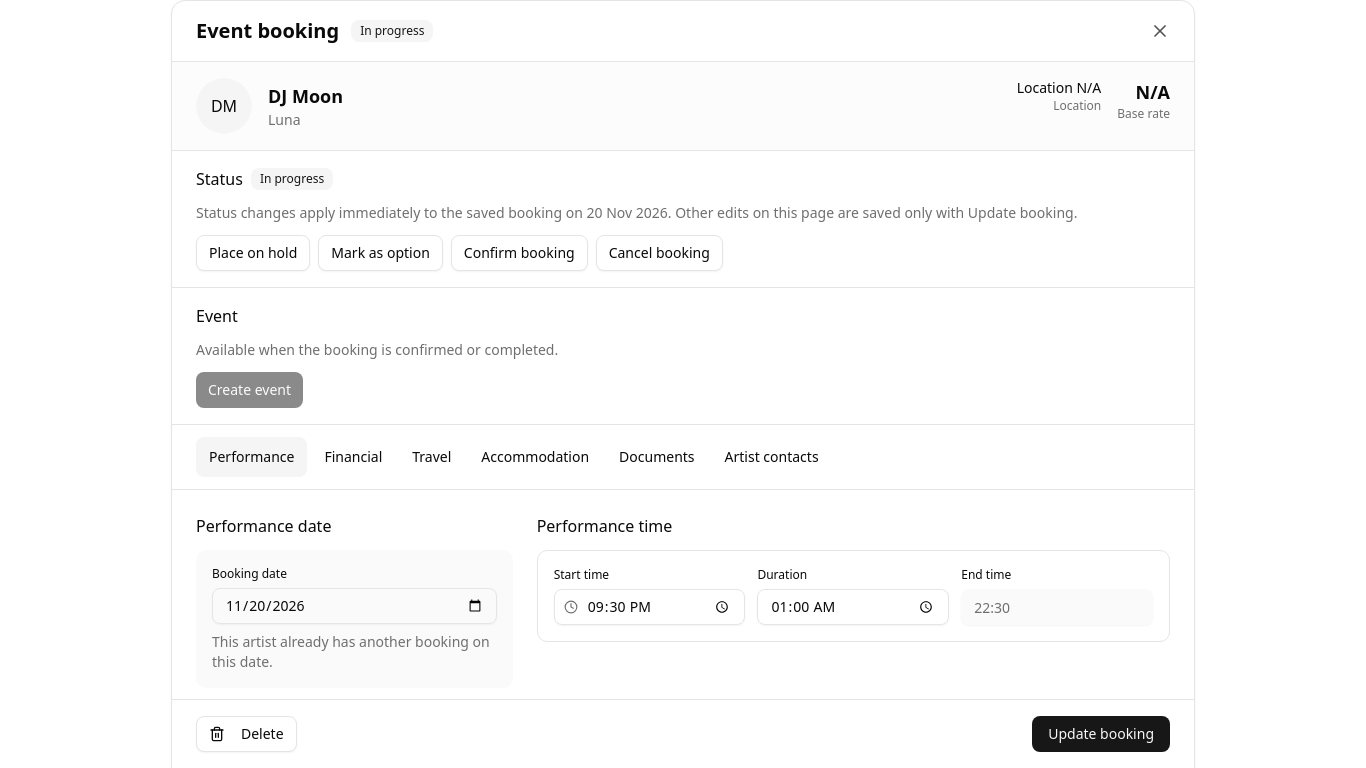
Test: warns in the editor about other same-day bookings, excluding itself and cancelled ones, and follows date edits
The image size is (1366, 768).
Check: the text "This artist already has another booking on this date." is shown, box [212,632,490,671]
Type "2026-11-22" into the date field labelled "Booking date" at (354, 606), box [212,588,497,624]
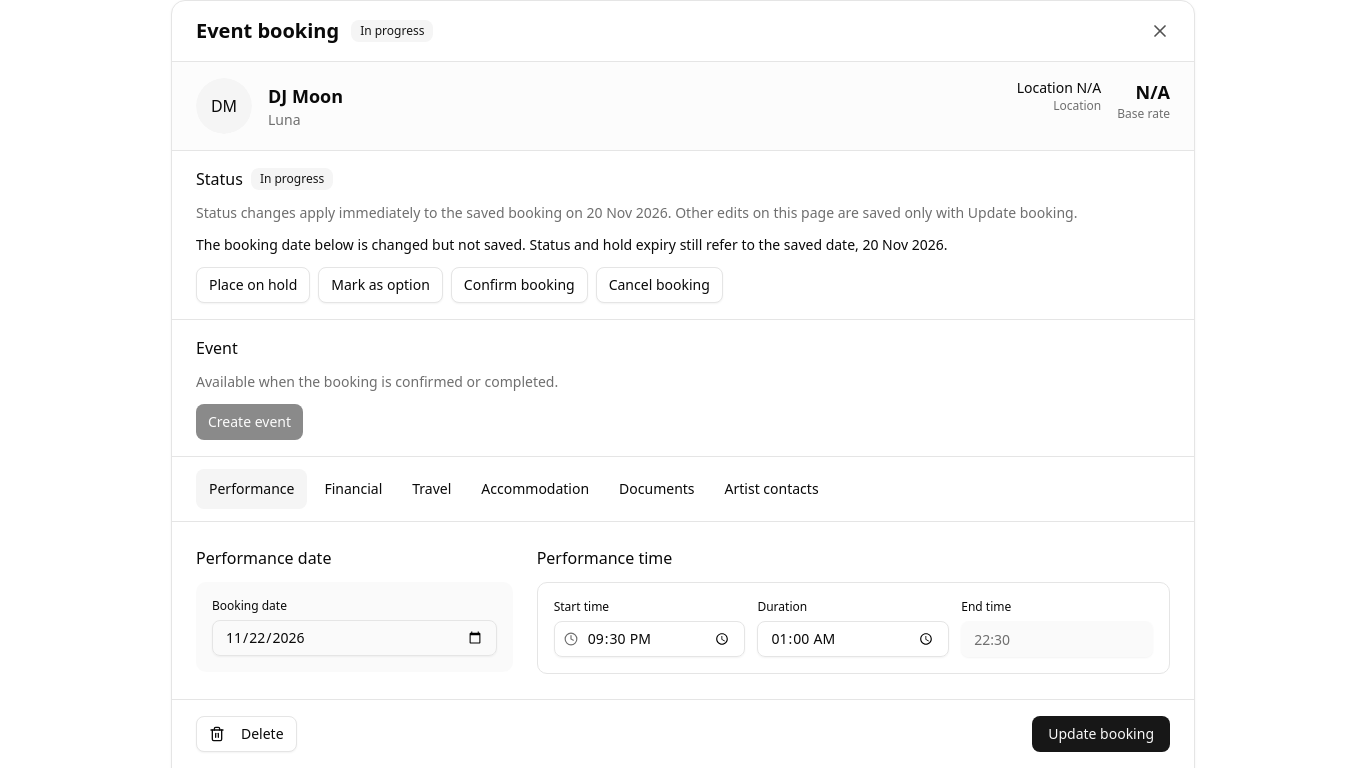
Check: the text "already has" is gone
Type "2026-11-21" into the date field labelled "Booking date" at (354, 638), box [212,620,497,656]
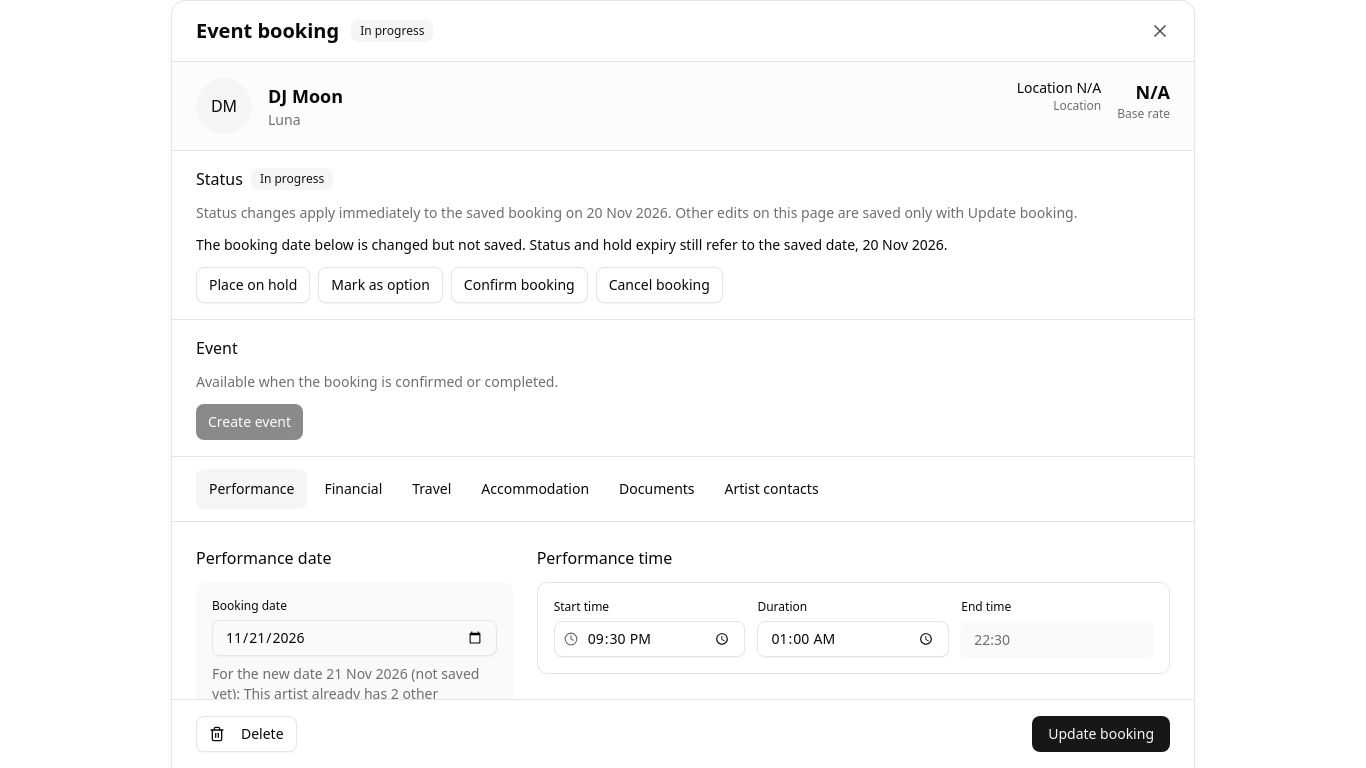
Check: the text "This artist already has 2 other bookings on this date." is shown, box [212,684,438,723]
Clear the date field labelled "Booking date" at (354, 638), box [212,620,497,656]
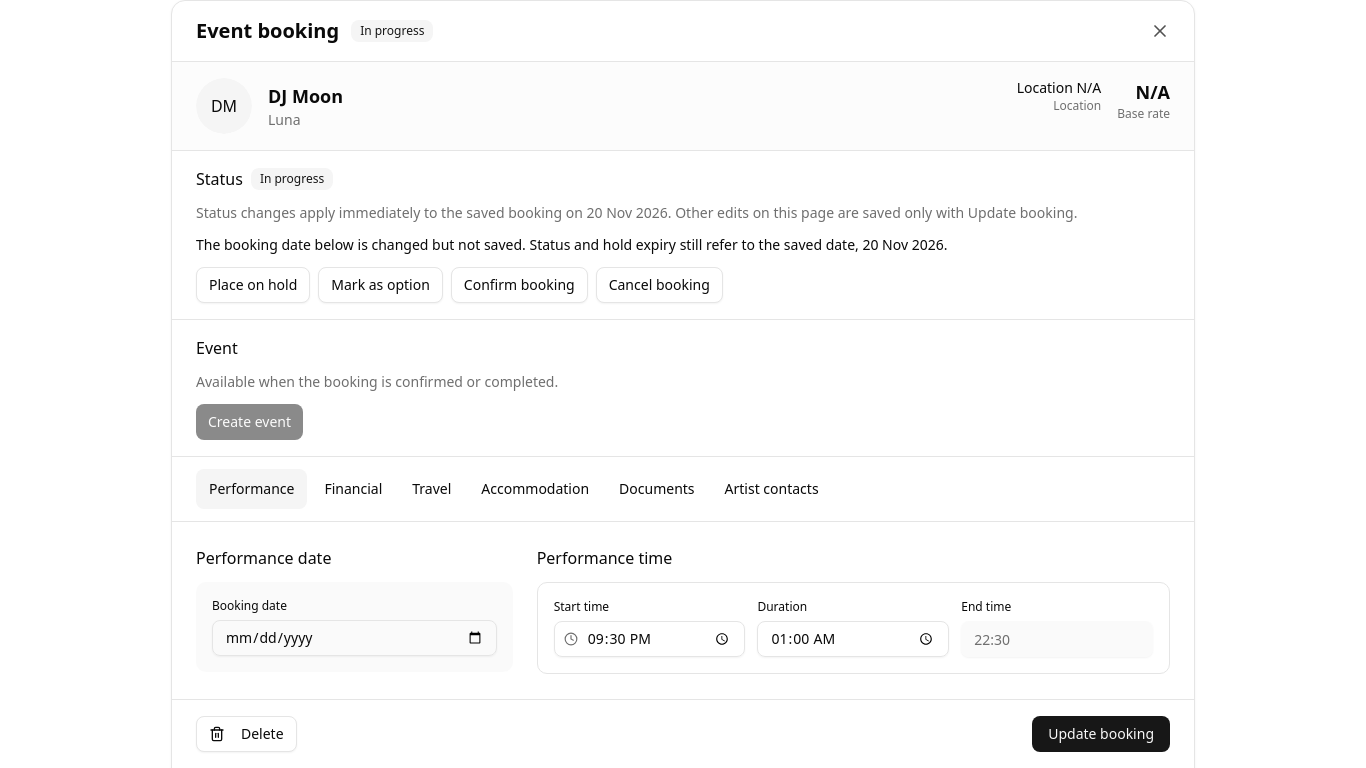
Check: the text "already has" is gone
